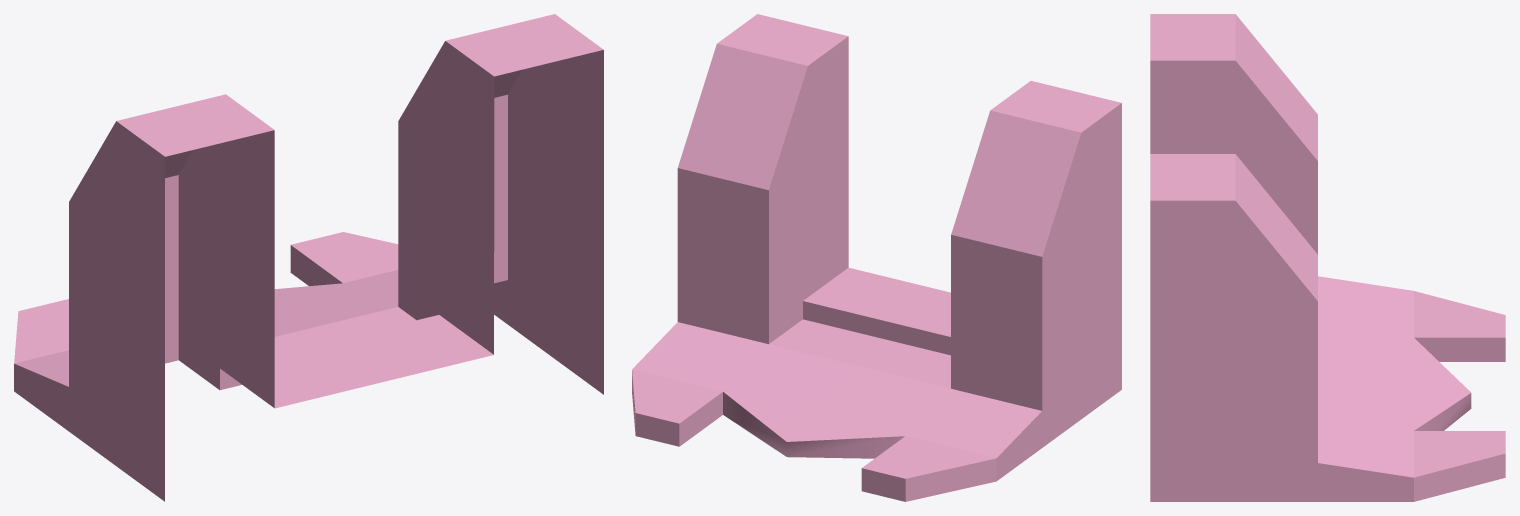
3 renders of one model, left to right at view 1: azimuth 30°, elevation 25°; view 2: azimuth 150°, elevation 25°; view 3: azimuth 270°, elevation 25°, orthographic. The views are drawn at different scales.
Visible parts, largest first — view 1: Object65; view 2: Object65; view 3: Object65.
Part boxes in pixels (x1,y1,x2,y2): Object65: (14, 14, 603, 501); Object65: (632, 14, 1121, 501); Object65: (1150, 14, 1505, 501).
Bounding box in the file's own units: 40000 × 30068 × 32153.
